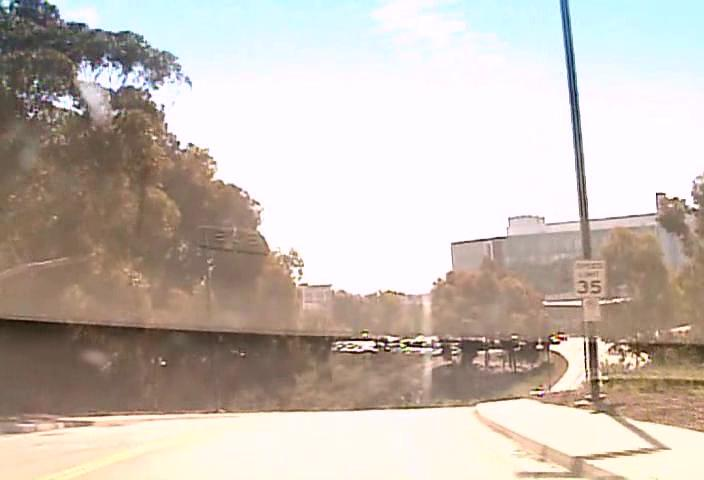speedLimit35: (572, 257, 606, 297)
